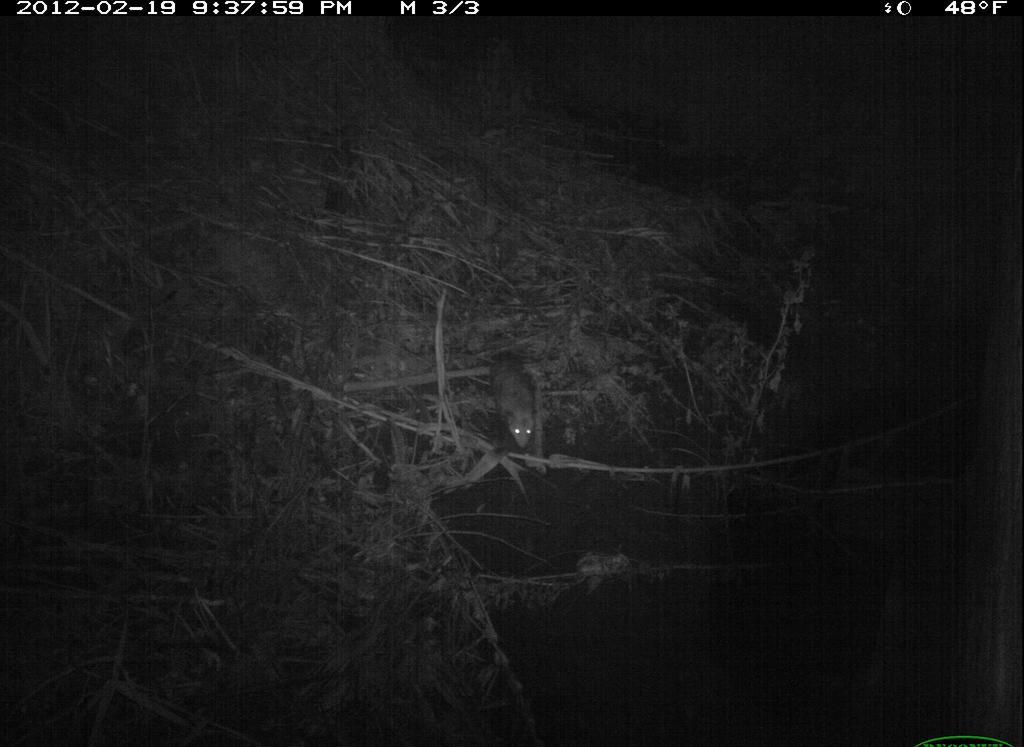opossum: (482, 341, 547, 472)
